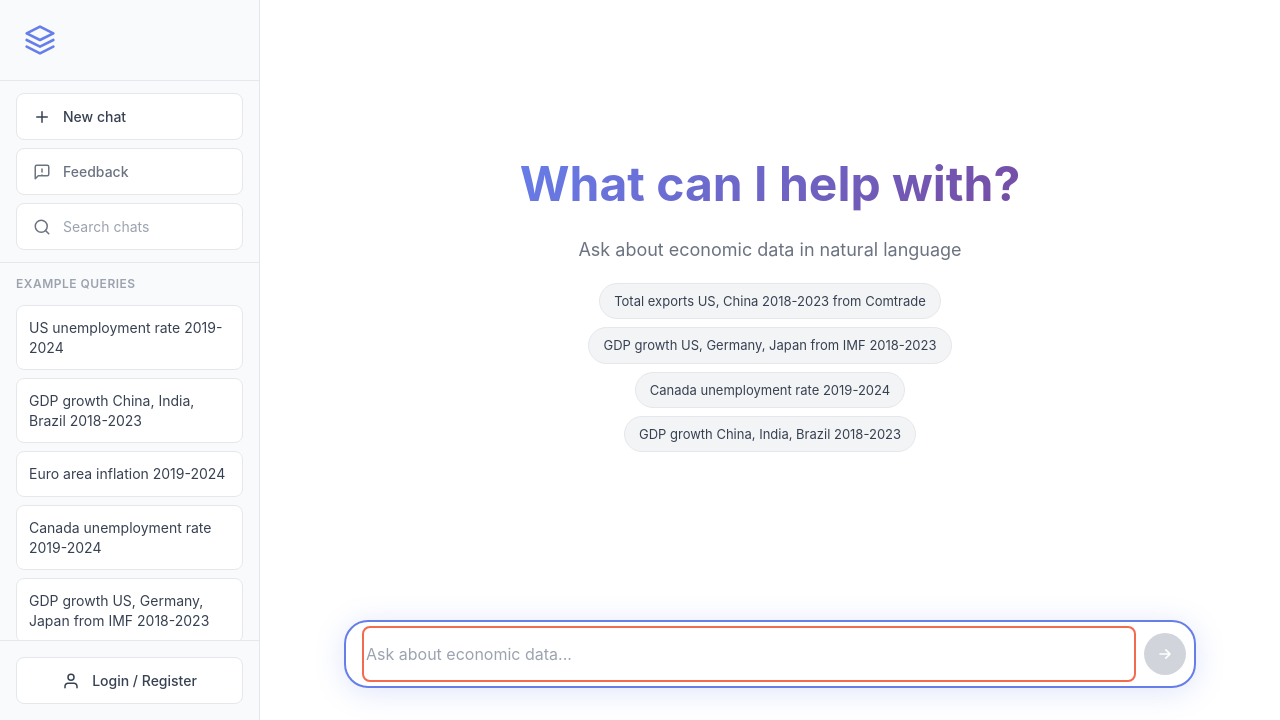
Test: ChatPage › query submission › renders clarification buttons without duplicating numbered options in the text bubble
In the field with placeholder "Ask about economic data...": (749, 654) left=366, top=630, right=1132, bottom=678, type "employment in Canada"
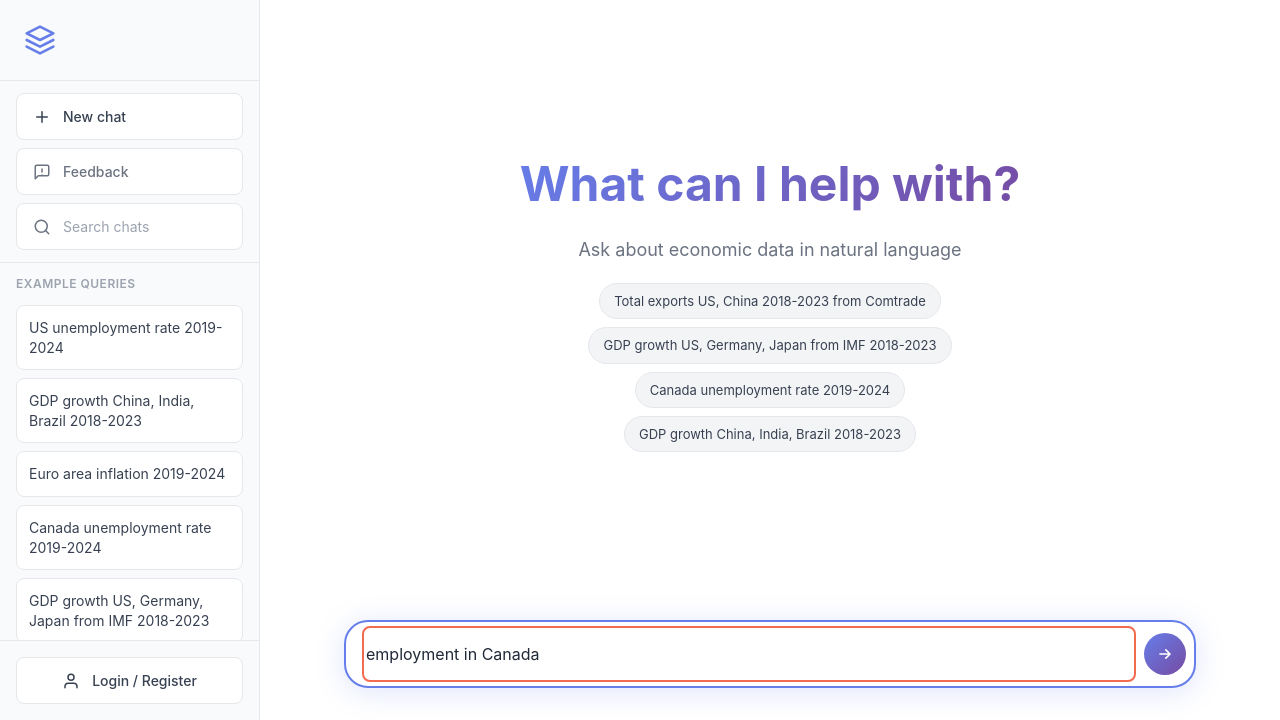
Submit the form with placeholder "Ask about economic data", box left=344, top=620, right=1196, bottom=688
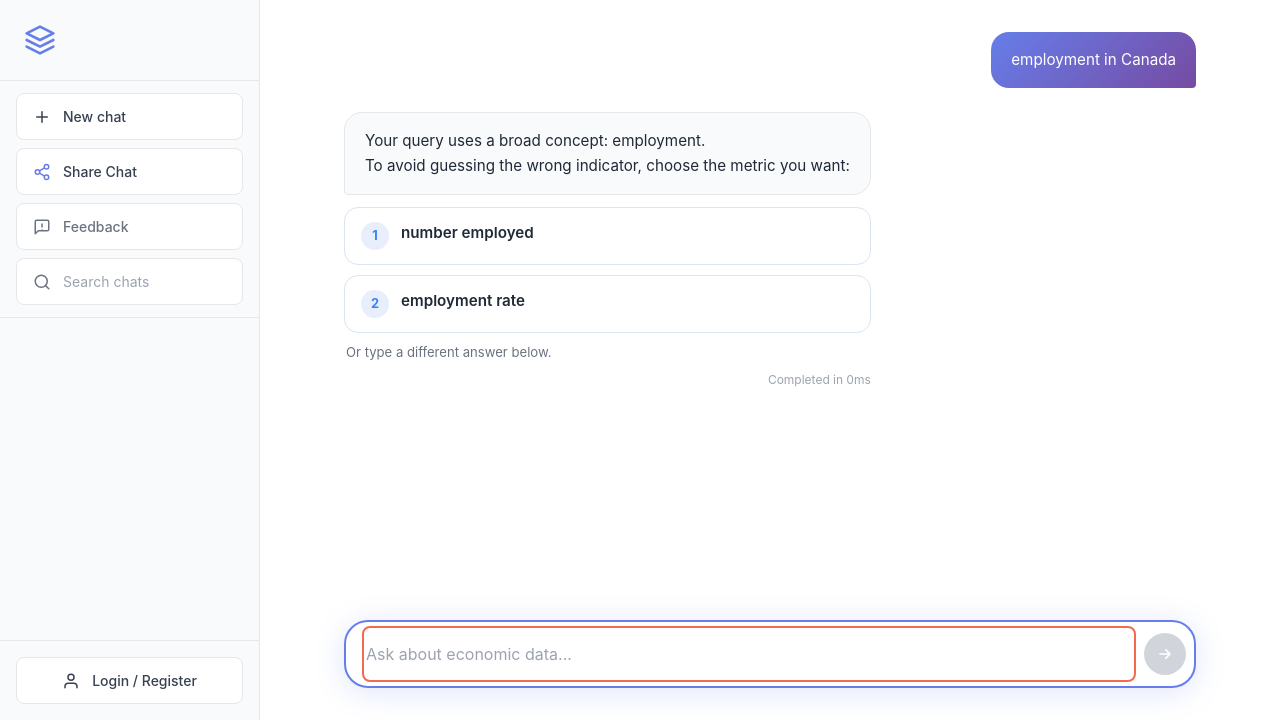
Expected: the text "Your query uses a broad concept: employment" is shown, left=365, top=131, right=850, bottom=175
Expected: the button "1 number employed" is shown, left=344, top=207, right=871, bottom=265
